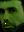without_mask: (1, 1, 24, 32)
